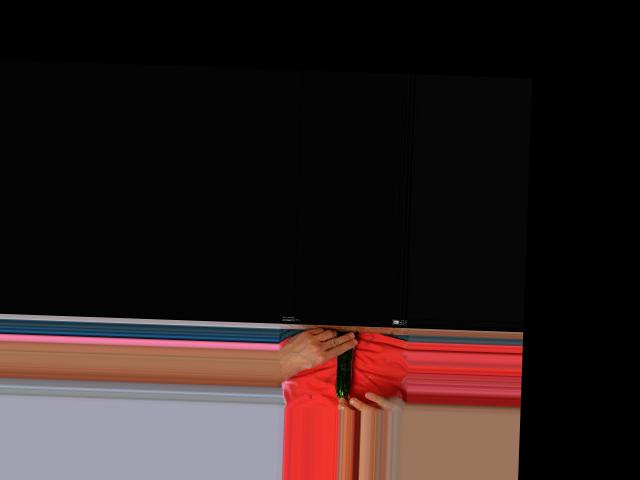cucumber: (334, 346, 352, 398)
